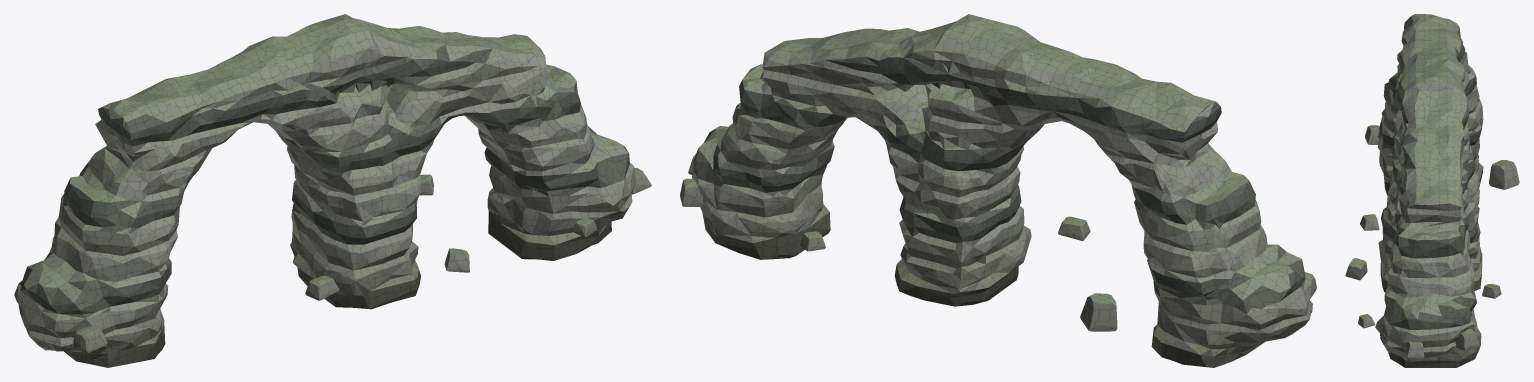
Rendered from rock_arch_double.glb.
3 renders of one model, left to right at view 1: azimuth 30°, elevation 25°; view 2: azimuth 150°, elevation 25°; view 3: azimuth 270°, elevation 25°, orthographic. The views are drawn at different scales.
Parts seen in each view (by area): view 1: rock_arch_double.001; view 2: rock_arch_double.001; view 3: rock_arch_double.001.
Boxes of the visible parts, <box> form: rock_arch_double.001: <box>14,14,651,367</box>; rock_arch_double.001: <box>680,14,1316,367</box>; rock_arch_double.001: <box>1345,14,1519,367</box>.
Size of what is drawn, in the model's own units: 36.06 by 14.84 by 11.48.
Materials: 2 (2 with a texture image).
